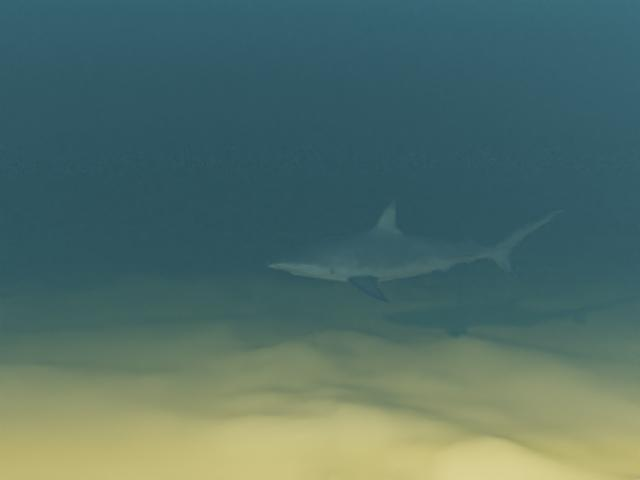Carribean Shark.001: (265, 200, 564, 303)
